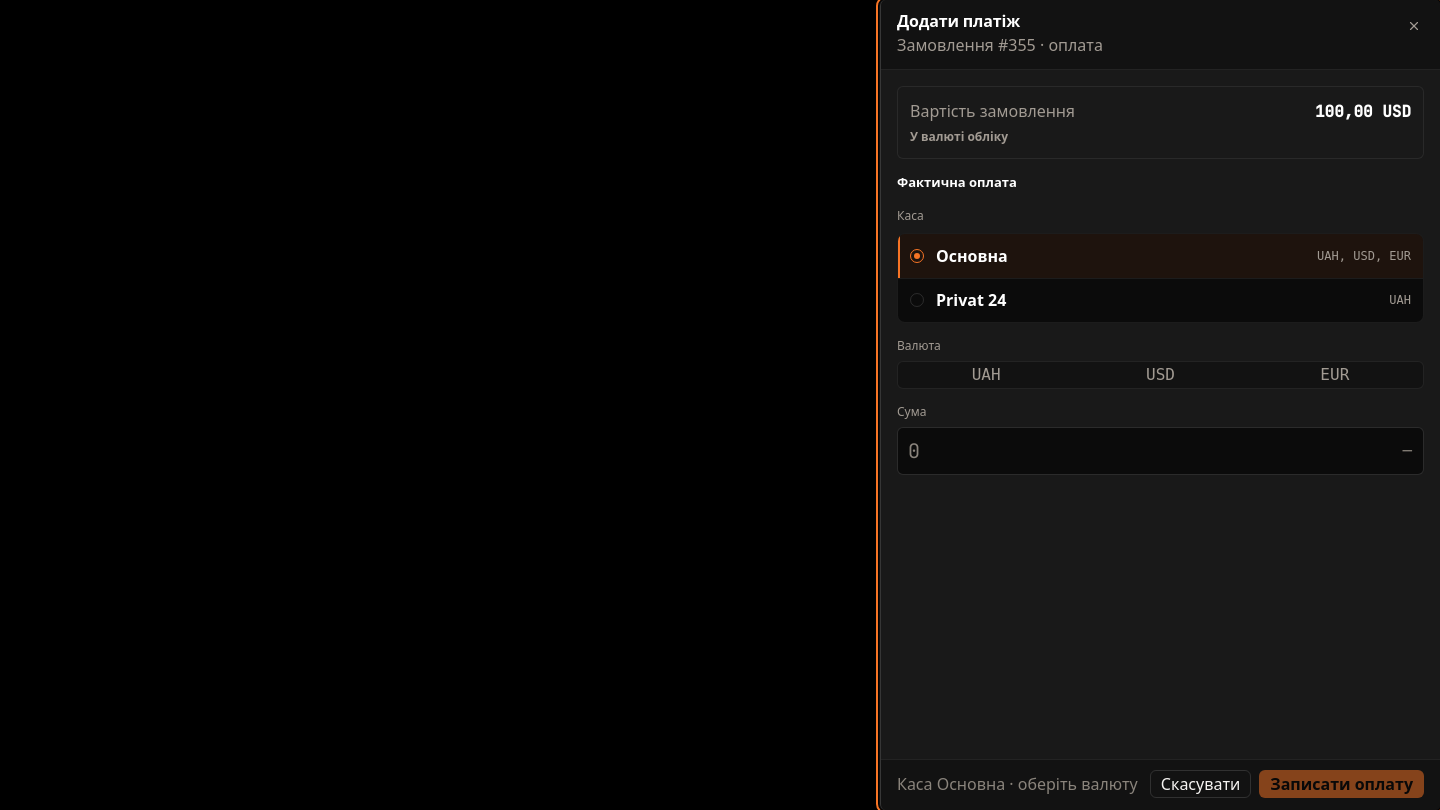
Test: resets a currency the new till does not take and keeps the amount
Click the button with aria-label "EUR (Євро)" at (1335, 375), box [1249, 364, 1421, 386]
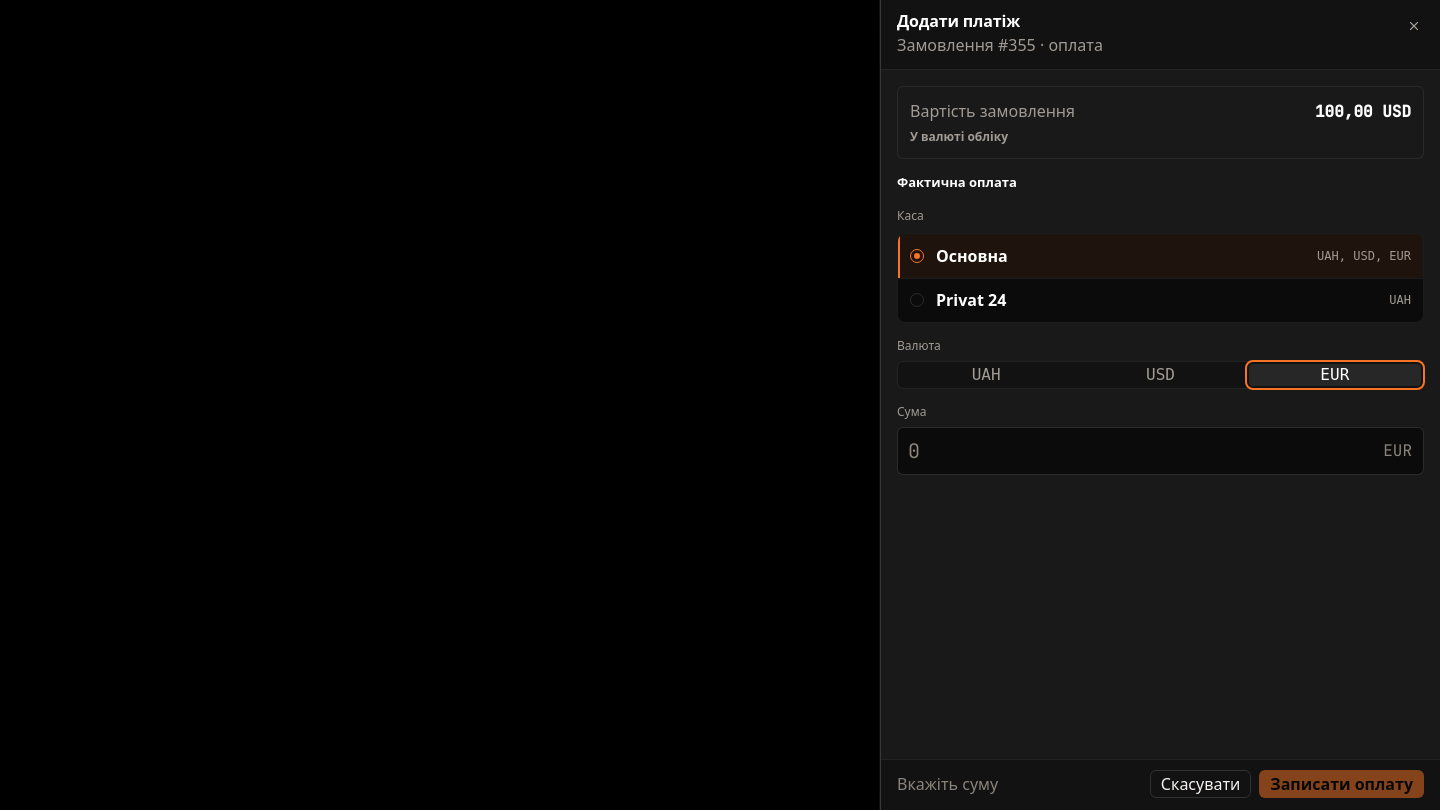
Type "30" into the field labelled "Сума" at (1160, 451), box [897, 427, 1424, 475]
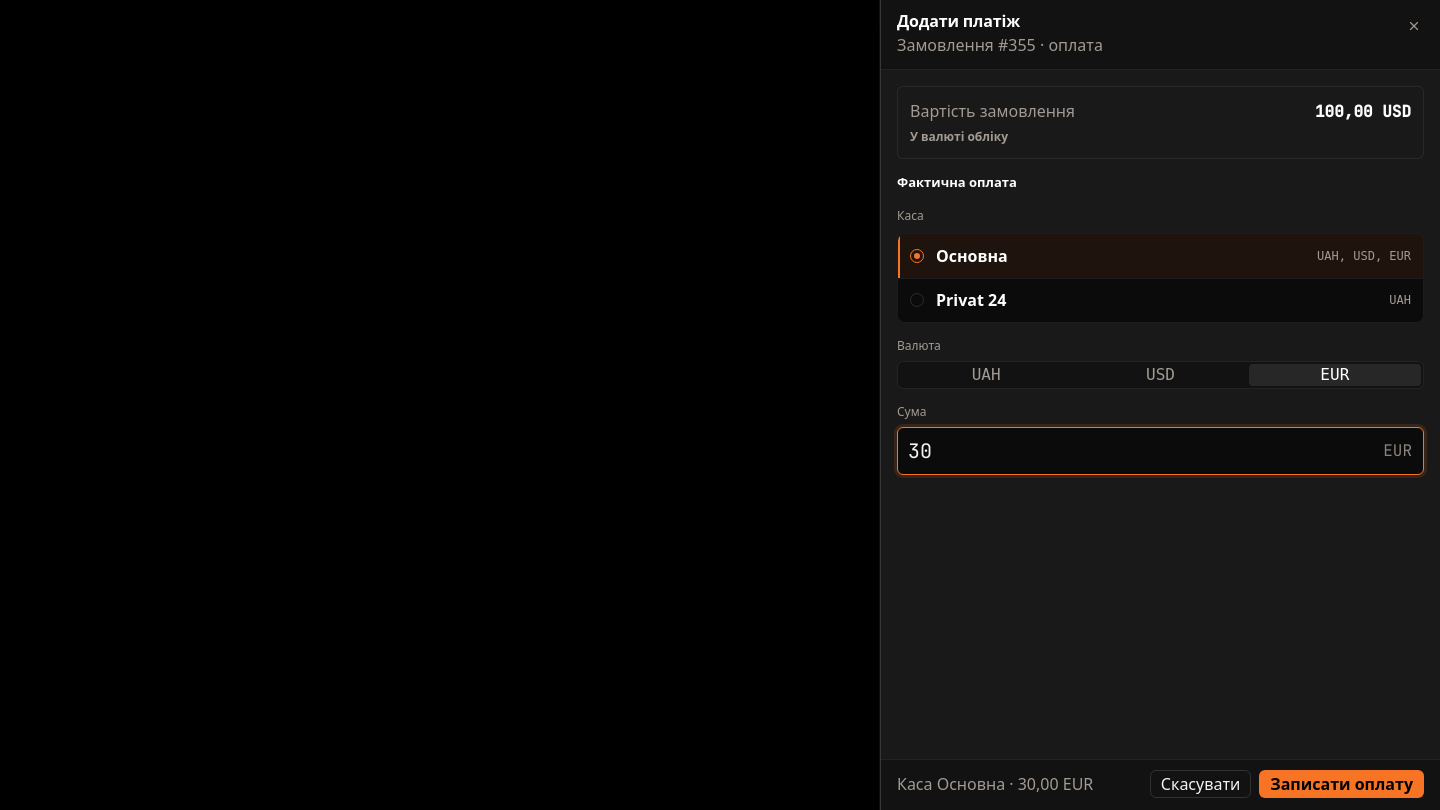
Click the radio button labelled "Privat 24 UAH" at (917, 300), box [910, 293, 924, 307]
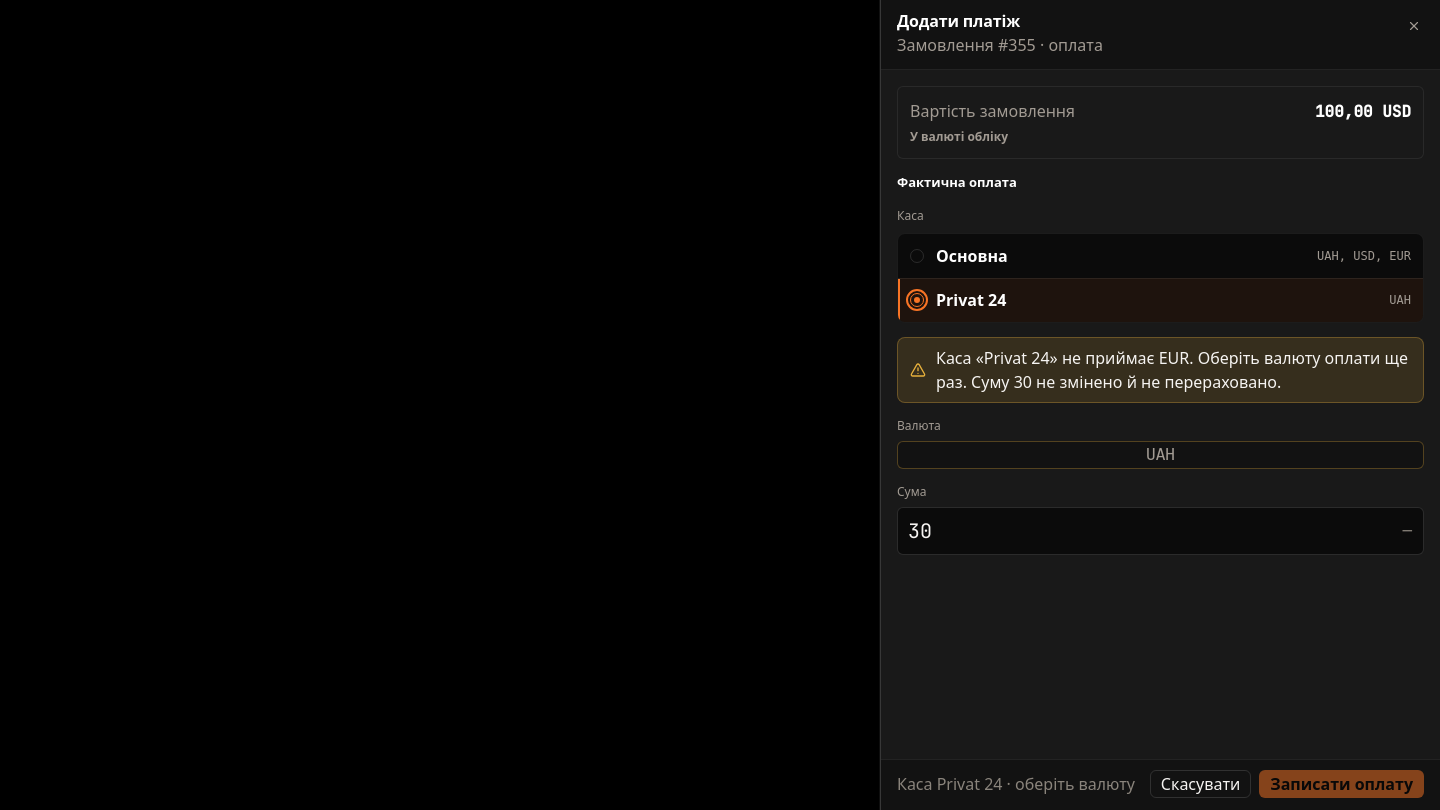
Expected: the text "Каса «Privat 24» не приймає EUR. Оберіть валюту оплати ще раз." is shown, [936, 347, 1408, 393]
Expected: the text "Суму 30 не змінено й не перераховано" is shown, [967, 371, 1281, 393]
Expected: the button "Записати оплату" is disabled, [1259, 770, 1424, 798]
Click the button with aria-label "UAH (Українська гривня)" at (1160, 455), box [900, 444, 1421, 466]
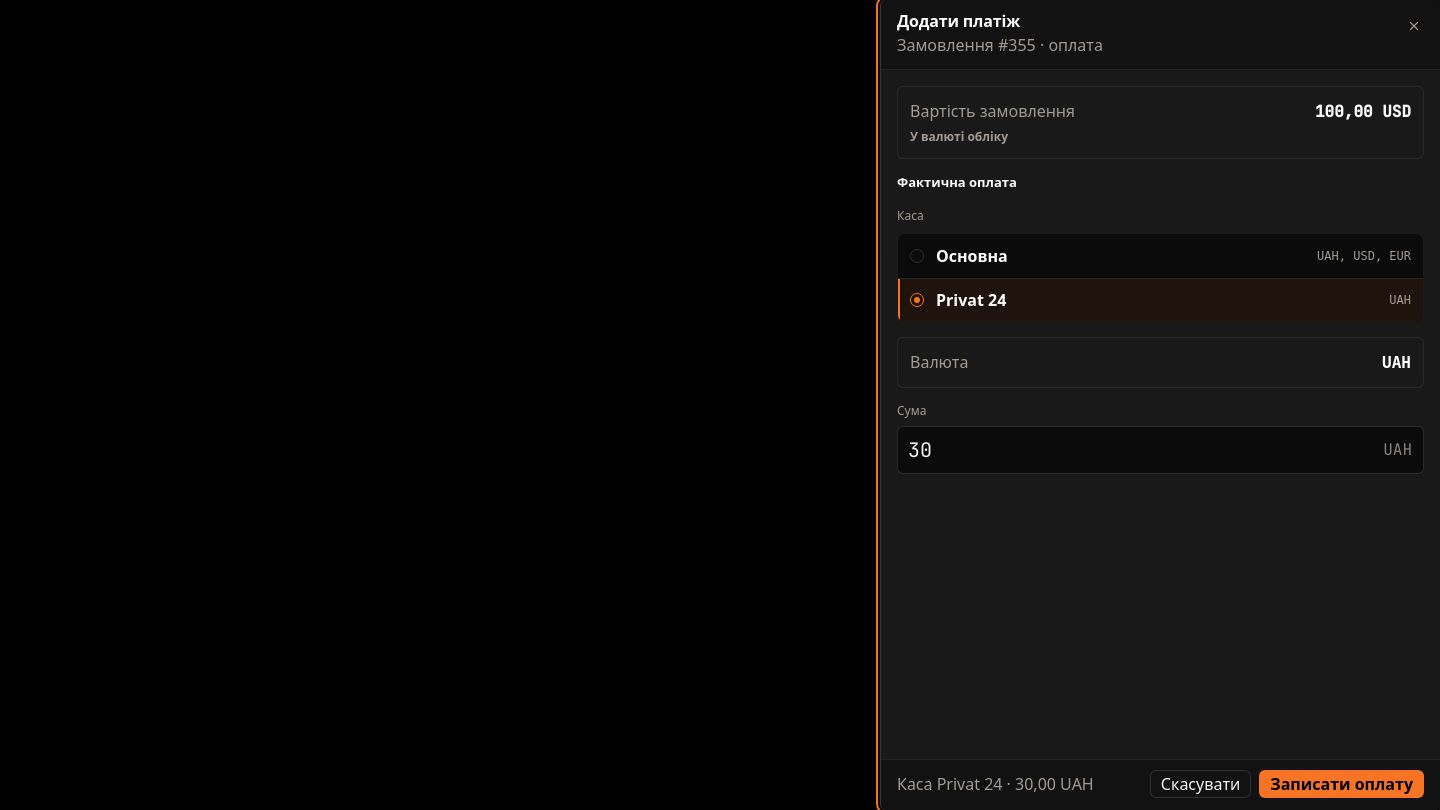
Expected: the text "не приймає" is gone
Expected: the button "Записати оплату" is enabled, [1259, 770, 1424, 798]
